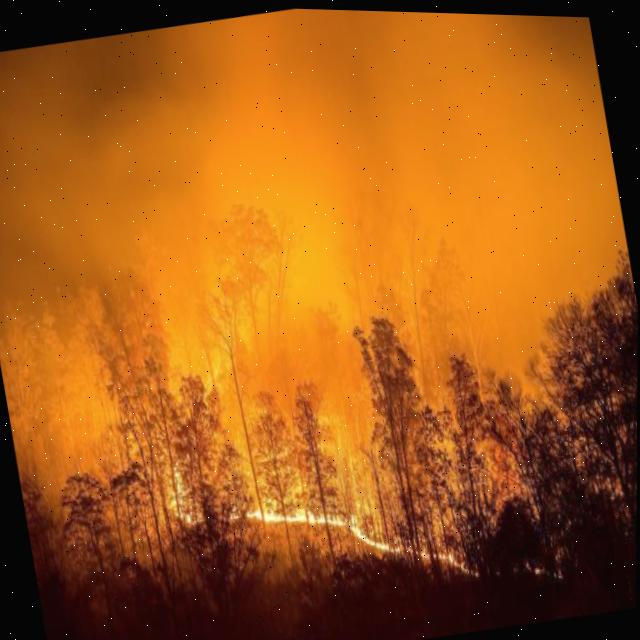smoke: (0, 7, 567, 546), (488, 11, 635, 305)
